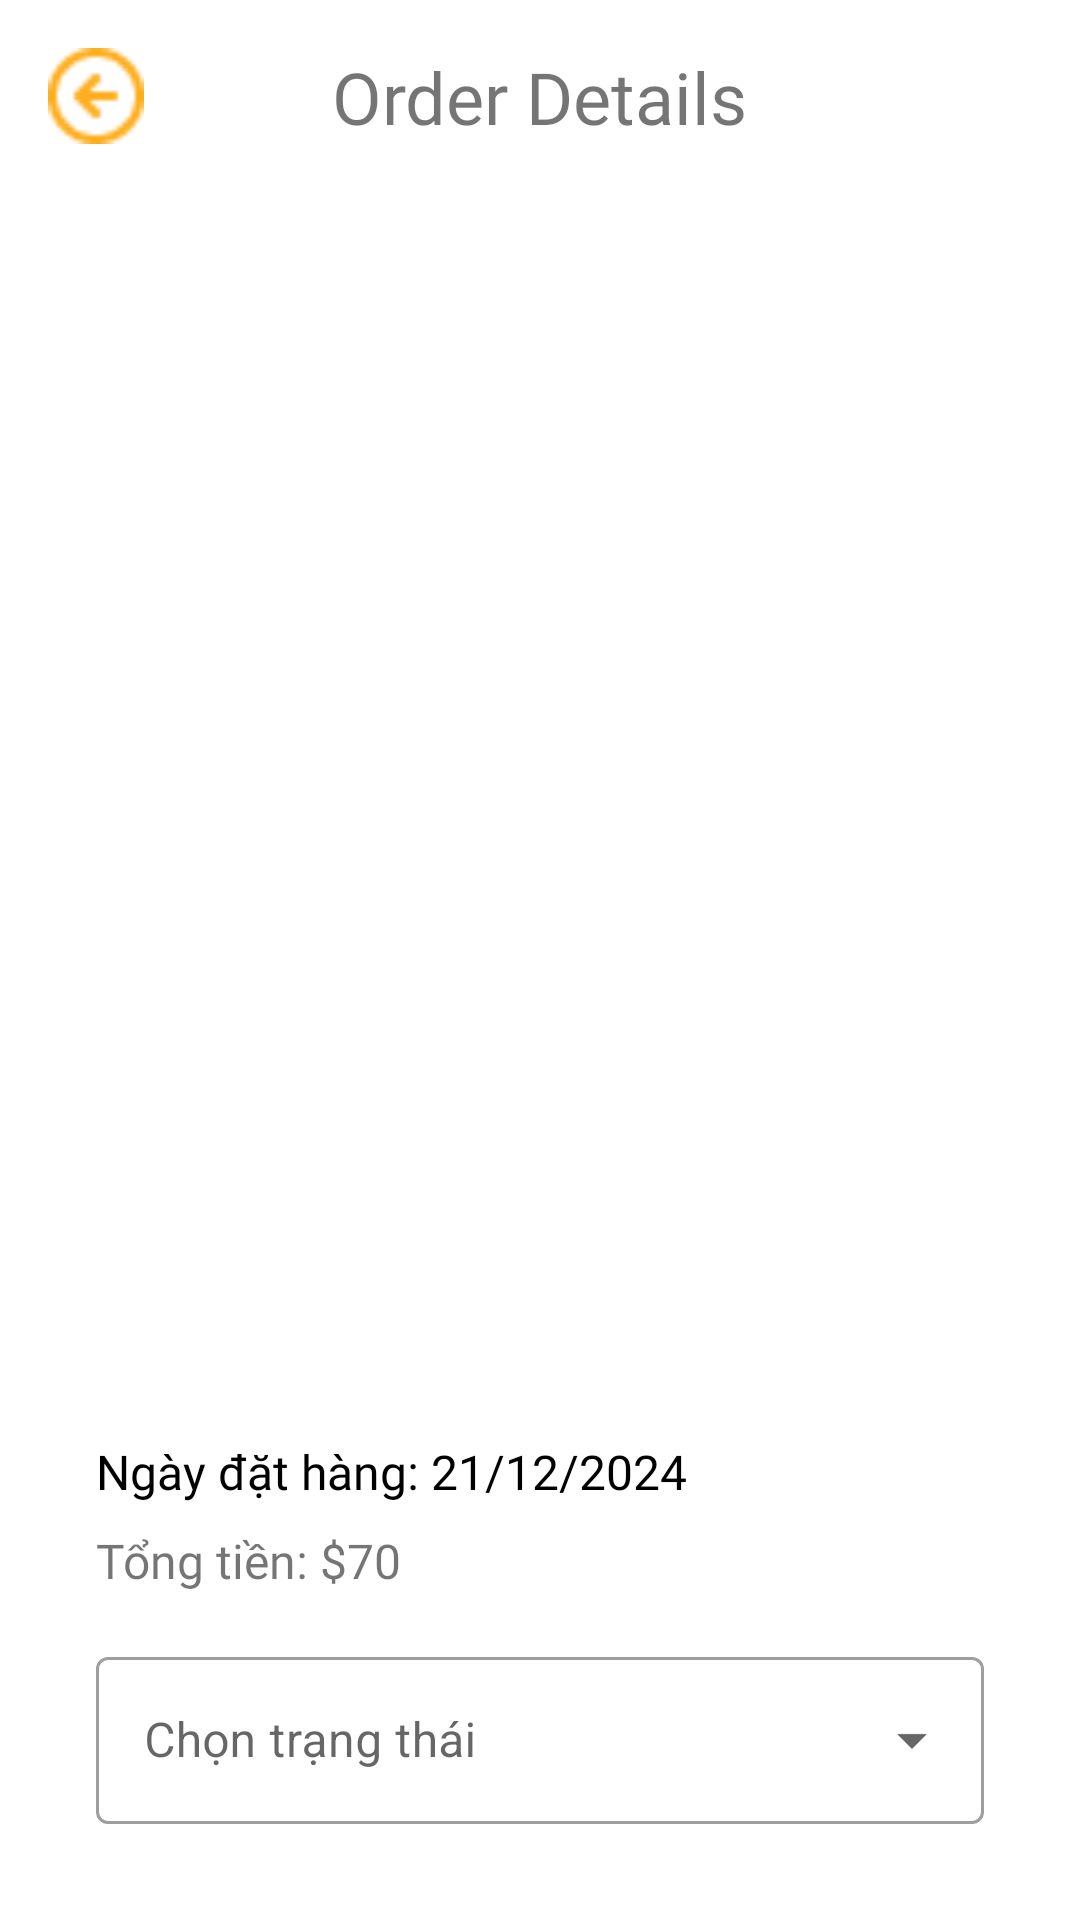

Screen size 1080w x 1920h. Icon name, then its center in pixels as [x,y]:
arrowleft: [96,96]
